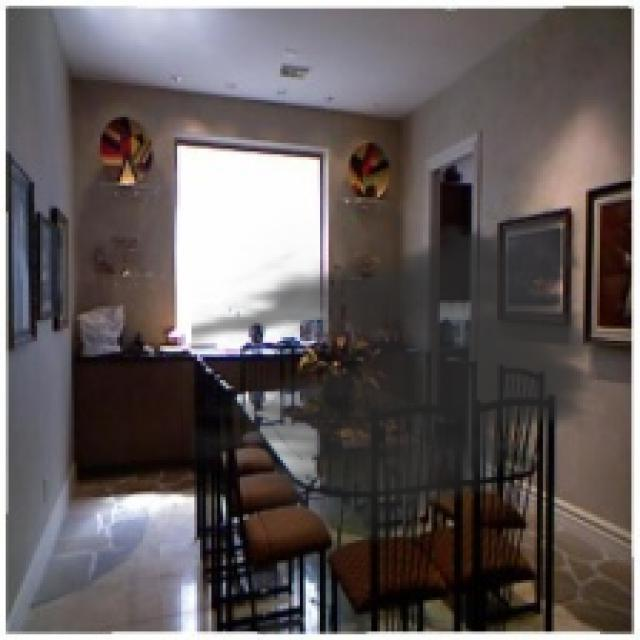Smoke: (192, 197, 617, 554)
